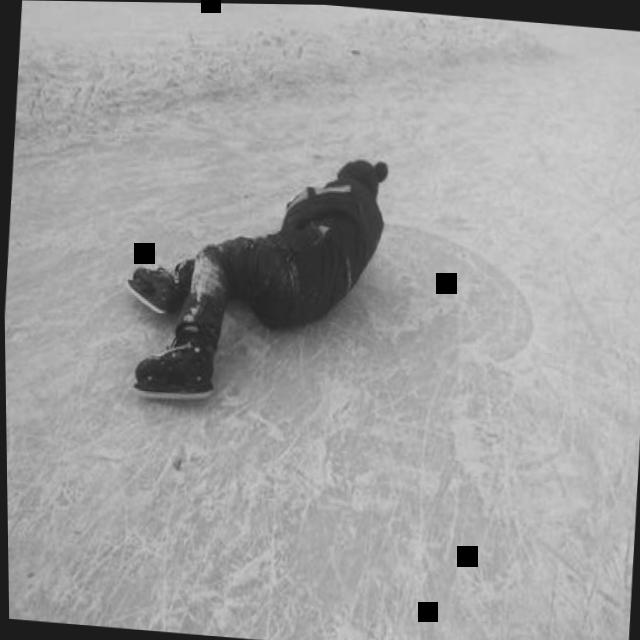Fall-Detected: (107, 125, 404, 428)
